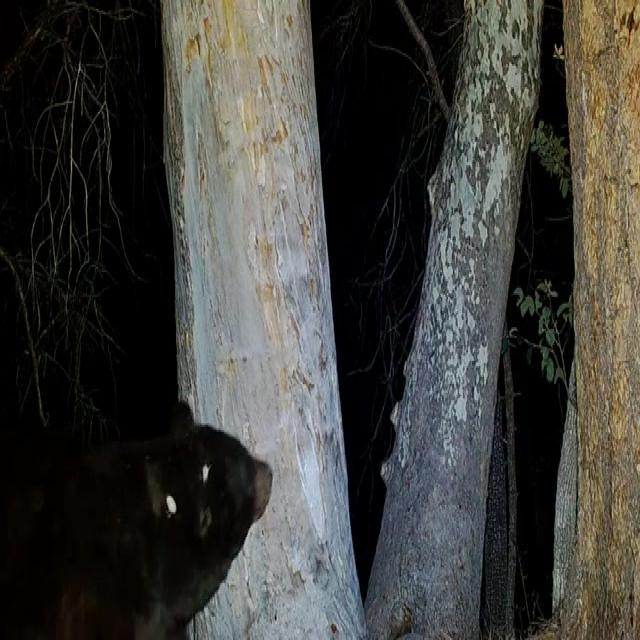bear face: (0, 400, 270, 640)
